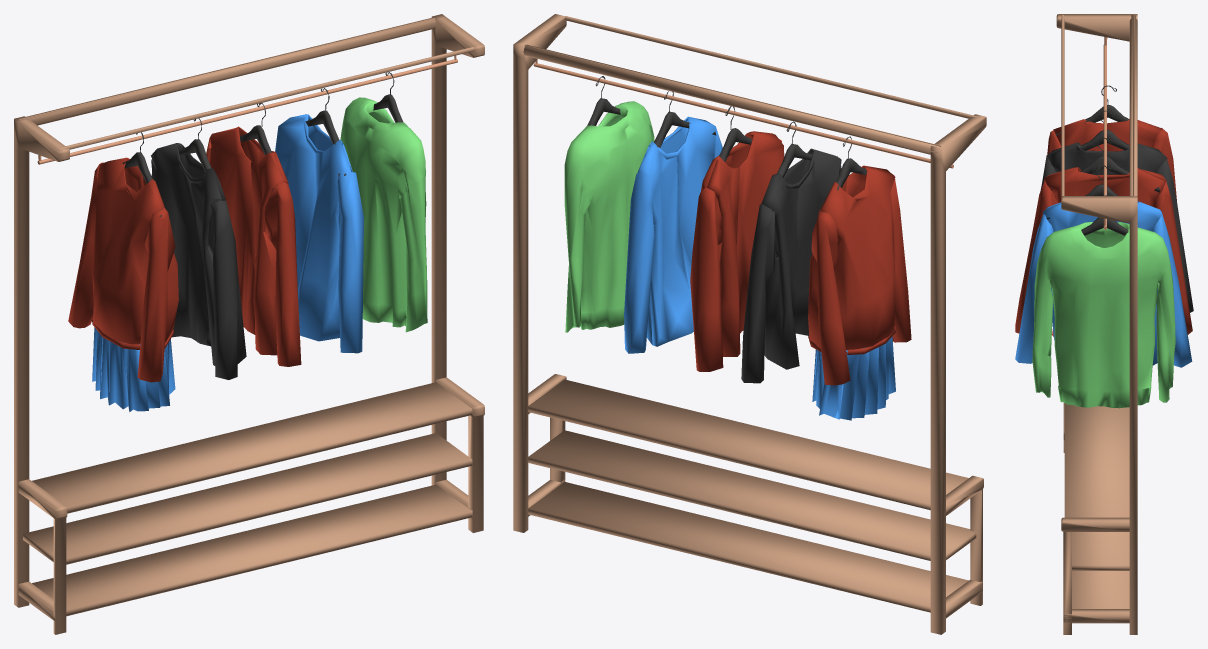
The model's file is Cloth-Rack02.fbx.
3 views of the same model, side by side, from view 1: azimuth 30°, elevation 25°; view 2: azimuth 150°, elevation 25°; view 3: azimuth 270°, elevation 25° (orthographic). The views are drawn at different scales.
Parts seen in each view (by area): view 1: Pattern2D_5081.002, Final.008, Tshirt.006, Cylinder.009, Final.001; view 2: Pattern2D_5081.002, Final.008, Tshirt.006, Final.001, Cylinder.009; view 3: Pattern2D_5081.002, Tshirt.006, Final.008, Final.001, Cylinder.009, Final.012.
Part boxes in pixels (bbox=[...]): Pattern2D_5081.002: bbox=[14, 14, 484, 634]; Final.008: bbox=[68, 114, 363, 411]; Tshirt.006: bbox=[340, 97, 427, 332]; Cylinder.009: bbox=[37, 55, 457, 164]; Final.001: bbox=[122, 88, 346, 216]; Pattern2D_5081.002: bbox=[513, 14, 986, 634]; Final.008: bbox=[624, 116, 911, 420]; Tshirt.006: bbox=[564, 101, 654, 332]; Final.001: bbox=[654, 91, 866, 211]; Cylinder.009: bbox=[533, 59, 953, 168]; Pattern2D_5081.002: bbox=[1056, 14, 1137, 634]; Tshirt.006: bbox=[1032, 222, 1175, 408]; Final.008: bbox=[1015, 119, 1193, 367]; Final.001: bbox=[1046, 85, 1160, 219]; Cylinder.009: bbox=[1103, 37, 1107, 229]; Final.012: bbox=[1081, 195, 1128, 235].
Size of the model in its own units: 444 by 483 by 180.
